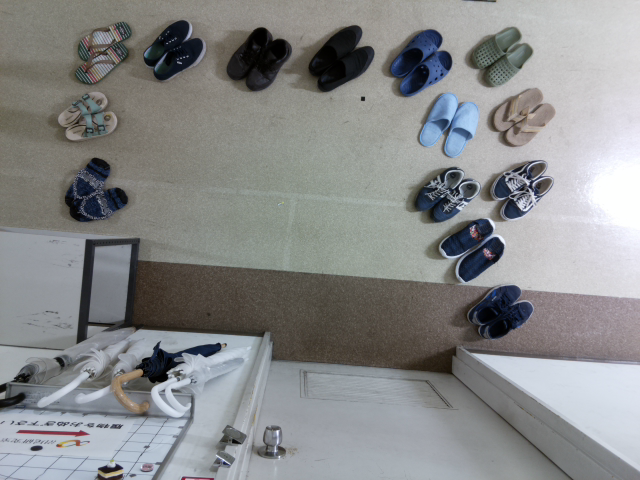Copy of Copy of Copy of Copy of Copy of Copy of Copy of Copy of Copy of Copy of: (305, 20, 363, 80), (383, 26, 446, 80), (314, 42, 377, 96), (414, 86, 463, 152), (149, 32, 210, 85), (59, 150, 116, 206), (466, 21, 526, 73), (394, 47, 454, 99), (242, 36, 295, 94), (222, 26, 275, 84), (141, 16, 196, 68), (438, 96, 483, 159), (73, 17, 133, 64), (73, 39, 133, 86), (52, 87, 112, 133), (66, 183, 130, 225), (60, 105, 120, 147), (483, 41, 535, 89)
Copy of Copy of Copy of Copy of Copy of Copy of Copy of Copy of Copy of shoe: (488, 84, 548, 134)
Copy of Copy of Copy of Copy of Copy of Copy of Copy of Copy of shoe: (502, 98, 559, 151)
Copy of Copy of Copy of Copy of Copy of Copy of Copy of shoe: (487, 154, 550, 203)
Copy of Copy of Copy of Copy of Copy of Copy of shoe: (495, 172, 557, 224)
Copy of Copy of Copy of Copy of Copy of shoe: (412, 163, 467, 215)
Copy of Copy of Copy of Copy of shoe: (429, 175, 482, 223)
Copy of Copy of Copy of shoe: (433, 213, 499, 260)
Copy of Copy of shoe: (450, 231, 512, 282)
Copy of shoe: (471, 294, 534, 343)
shoe: (461, 278, 524, 328)
